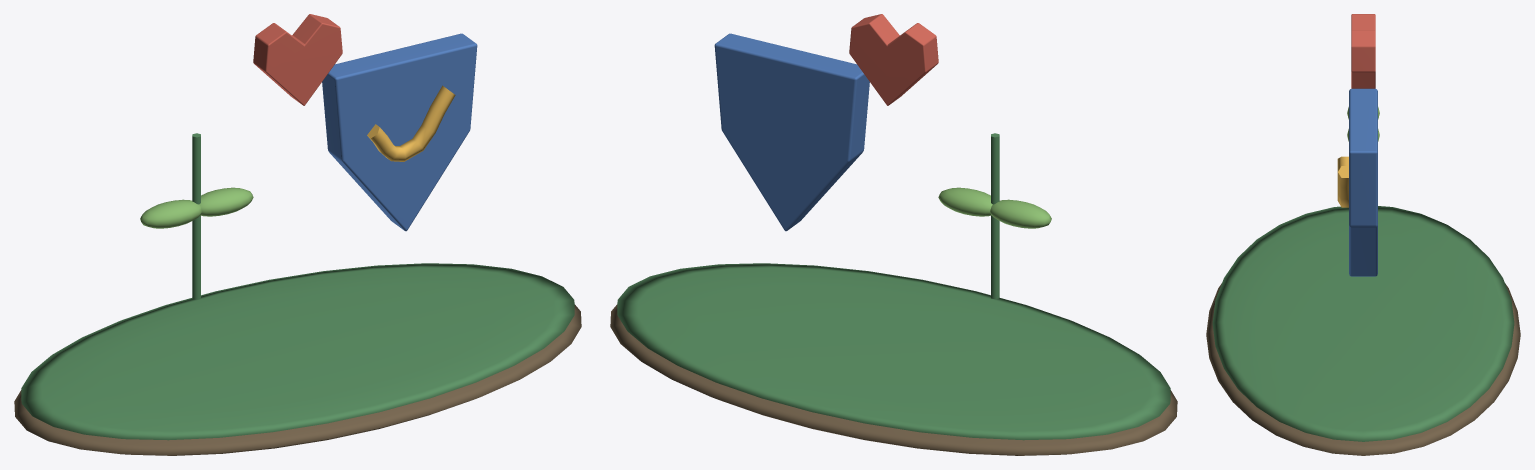
Rendered from complete-second-growth-life-order.glb.
3 renders of one model, left to right at view 1: azimuth 30°, elevation 25°; view 2: azimuth 150°, elevation 25°; view 3: azimuth 270°, elevation 25°, orthographic. The views are drawn at different scales.
Visible parts, largest first — view 1: complete-second-growth-life-order_surface_01, complete-second-growth-life-order_surface_03, complete-second-growth-life-order_surface_00, complete-second-growth-life-order_surface_05, complete-second-growth-life-order_surface_02, complete-second-growth-life-order_surface_04; view 2: complete-second-growth-life-order_surface_01, complete-second-growth-life-order_surface_03, complete-second-growth-life-order_surface_00, complete-second-growth-life-order_surface_05, complete-second-growth-life-order_surface_02; view 3: complete-second-growth-life-order_surface_01, complete-second-growth-life-order_surface_00, complete-second-growth-life-order_surface_03, complete-second-growth-life-order_surface_05, complete-second-growth-life-order_surface_04.
Boxes of the visible parts, x1=… form: complete-second-growth-life-order_surface_01: x1=21, y1=133, x2=574, y2=440; complete-second-growth-life-order_surface_03: x1=322, y1=33, x2=477, y2=231; complete-second-growth-life-order_surface_00: x1=14, y1=304, x2=581, y2=455; complete-second-growth-life-order_surface_05: x1=253, y1=14, x2=342, y2=105; complete-second-growth-life-order_surface_02: x1=140, y1=187, x2=253, y2=228; complete-second-growth-life-order_surface_04: x1=367, y1=85, x2=455, y2=161; complete-second-growth-life-order_surface_01: x1=617, y1=133, x2=1170, y2=440; complete-second-growth-life-order_surface_03: x1=714, y1=33, x2=869, y2=231; complete-second-growth-life-order_surface_00: x1=610, y1=304, x2=1177, y2=455; complete-second-growth-life-order_surface_05: x1=849, y1=14, x2=938, y2=105; complete-second-growth-life-order_surface_02: x1=938, y1=187, x2=1051, y2=228; complete-second-growth-life-order_surface_01: x1=1212, y1=206, x2=1514, y2=441; complete-second-growth-life-order_surface_00: x1=1206, y1=283, x2=1520, y2=455; complete-second-growth-life-order_surface_03: x1=1349, y1=88, x2=1377, y2=276; complete-second-growth-life-order_surface_05: x1=1351, y1=14, x2=1375, y2=88; complete-second-growth-life-order_surface_04: x1=1337, y1=156, x2=1348, y2=207.
Bounding box in the file's own units: 4.56 × 2.87 × 2.5.
